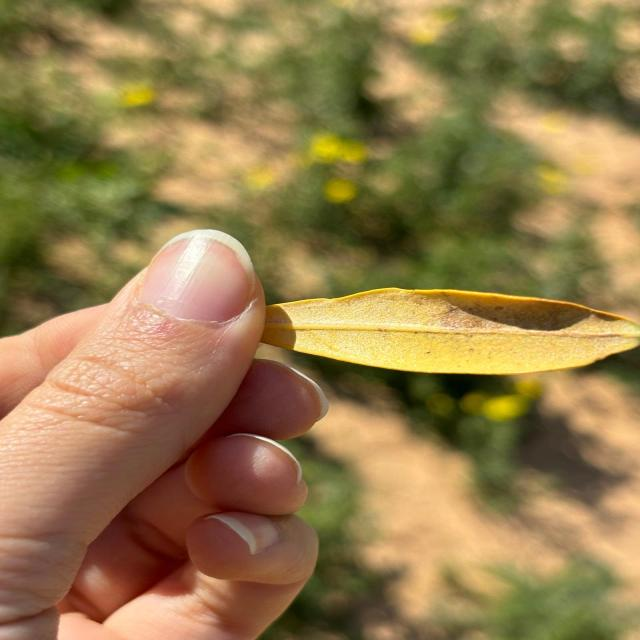Peacock Eye: (261, 288, 639, 375)
